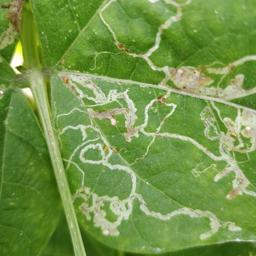liriomyza: (59, 1, 256, 238)
